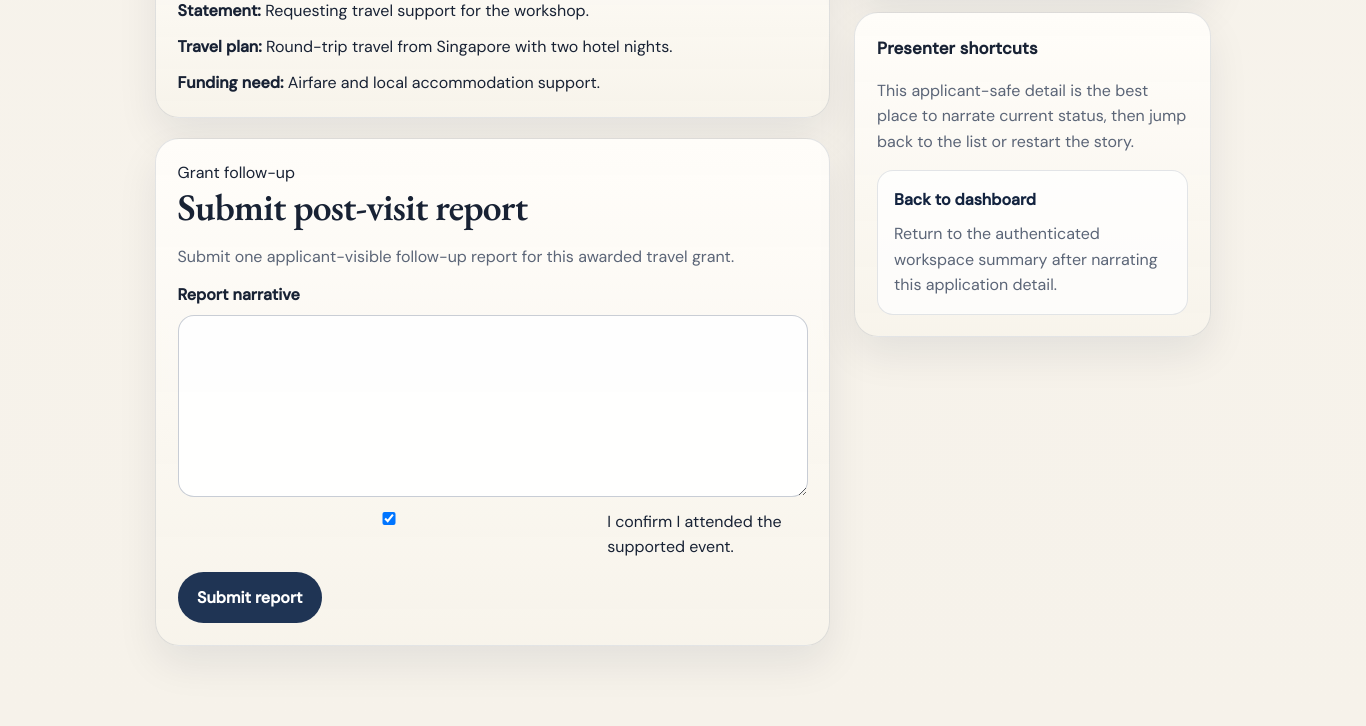
MyApplicationDetail page › renders a post-visit report form for an accepted grant and swaps to the submitted view after success
This screenshot has width=1366, height=726.
(page scrolled)
Check: the heading "Submit post-visit report" is shown, box [178,186,527,228]
Step 1. Type "Workshop went well; I gave a 30-minute talk." into the text box labelled "Report narrative" → (493, 406), box [178,315,808,497]
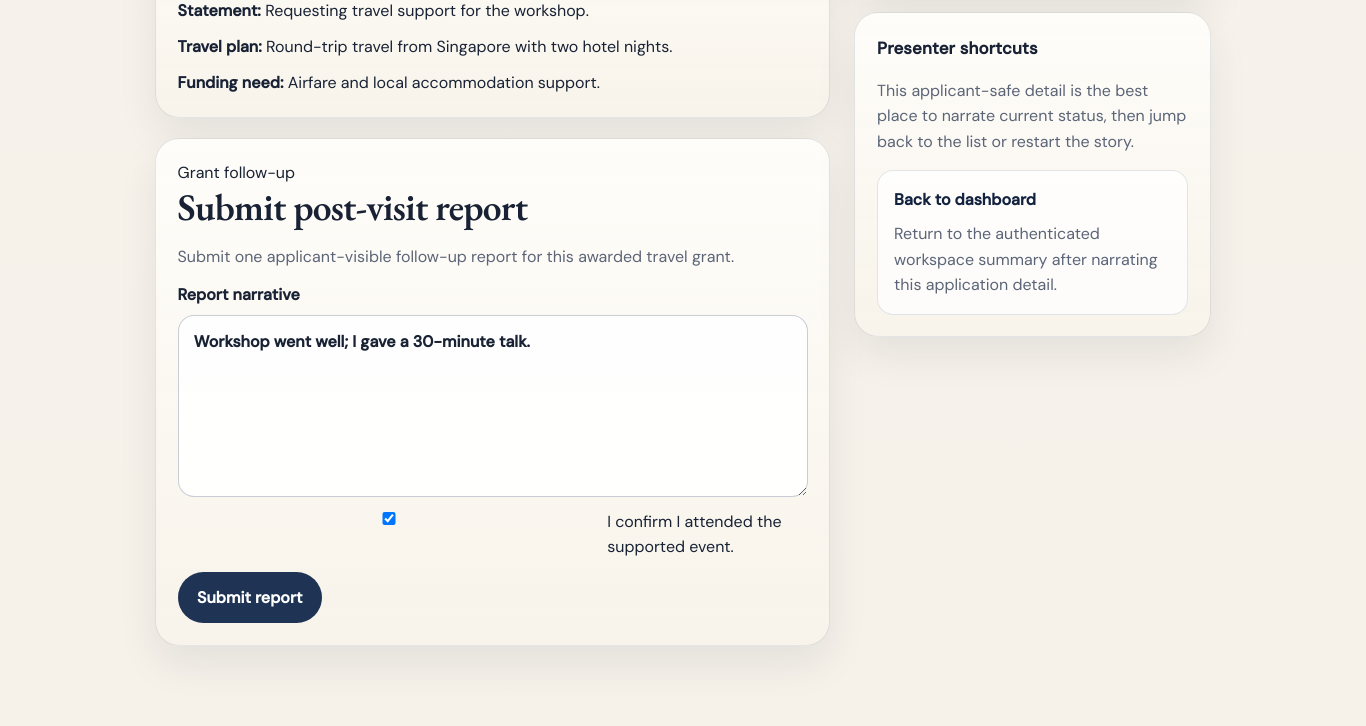
Step 2. Click the button "Submit report" → (250, 598), box [178,572,322,623]
(page scrolled)
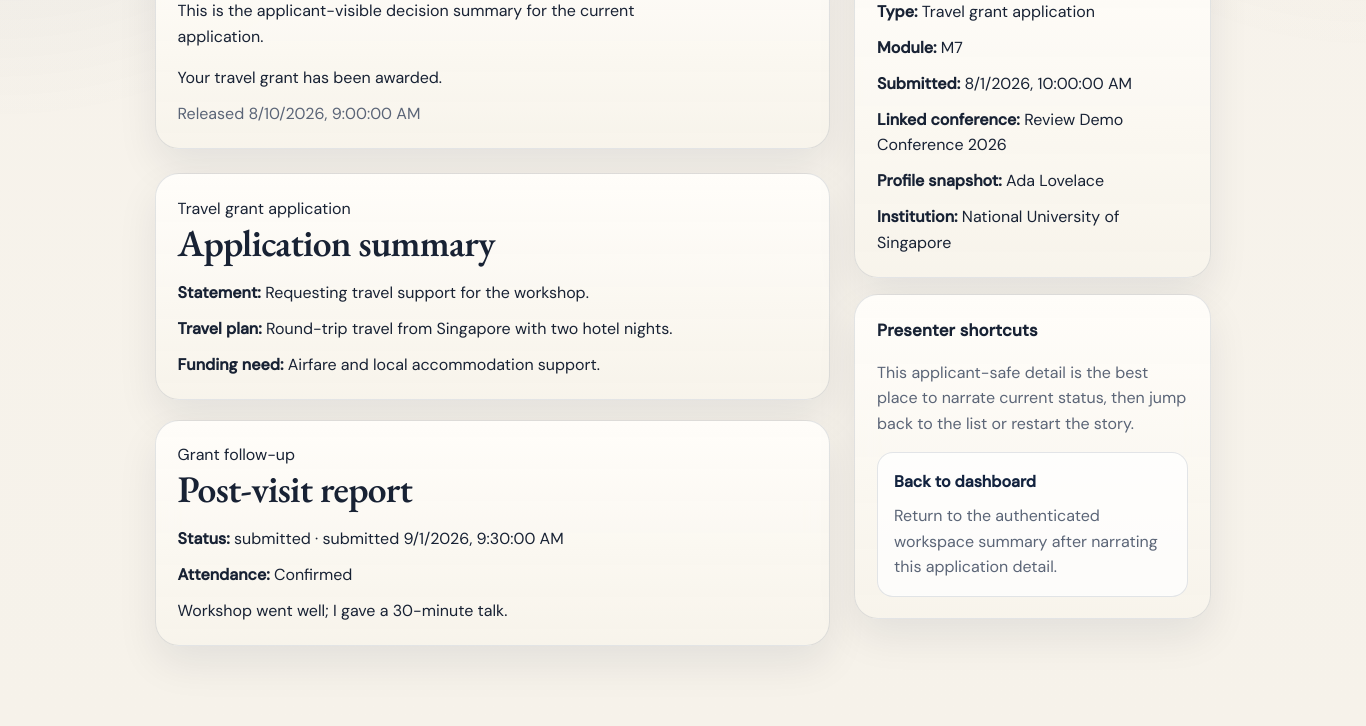
Check: the heading "Post-visit report" is shown, box [178,468,412,510]
Check: the text "Workshop went well; I gave a 30-minute talk." is shown, box [178,600,507,621]
Check: the heading "Submit post-visit report" is gone
